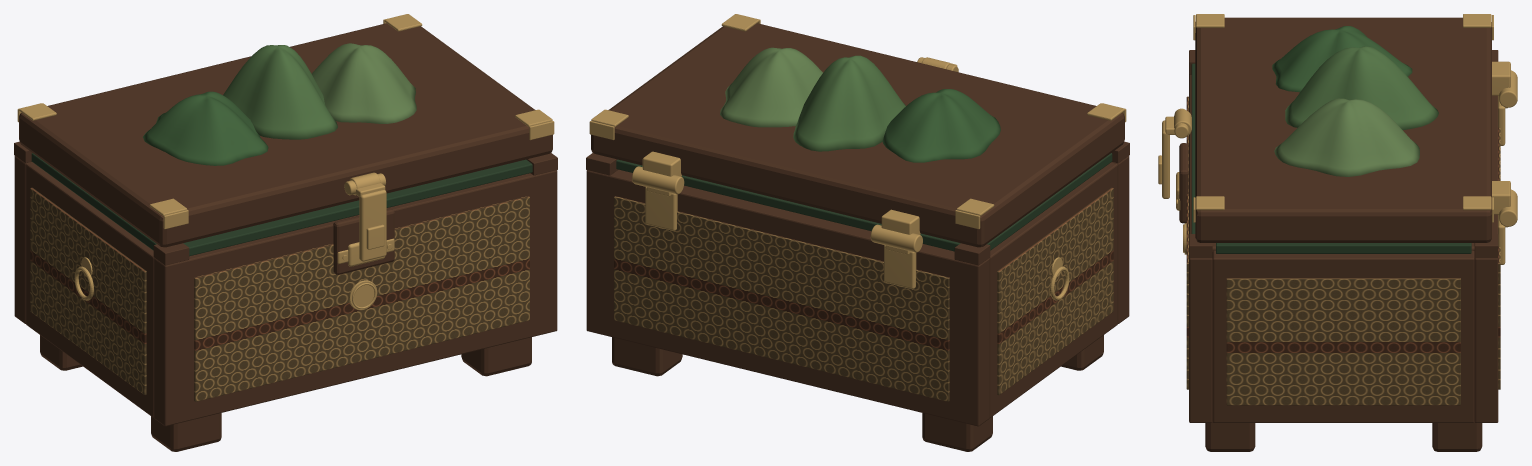
File: papua-new-guinea.glb
3 views of the same model, side by side, from view 1: azimuth 30°, elevation 25°; view 2: azimuth 150°, elevation 25°; view 3: azimuth 270°, elevation 25° (orthographic). The views are drawn at different scales.
Parts seen in each view (by area): view 1: Lid / polished slab, Fibre panel / long, Timber / long backing, Fibre panel / side, Timber / side backing, Highland ridge / 1, Highland ridge / 2, Highland ridge / 0, Forest seam / long, Timber / long backing.001, Timber / foot, Timber / foot.002 (+6 smaller); view 2: Lid / polished slab, Fibre panel / long.001, Timber / long backing.001, Fibre panel / side, Highland ridge / 1, Timber / side backing, Highland ridge / 0, Highland ridge / 2, Forest seam / long.001, Timber / long backing, Timber / foot.001, Timber / foot.003 (+10 smaller); view 3: Lid / polished slab, Fibre panel / side.001, Timber / side backing.001, Highland ridge / 2, Highland ridge / 1, Timber / long backing.001, Timber / long backing, Highland ridge / 0, Forest seam / side.001, Timber / foot.002, Timber / foot.003, Forest seam / long (+14 smaller).
Part boxes in pixels (left/top/right/bottom): Lid / polished slab: left=19, top=23, right=552, bottom=247; Fibre panel / long: left=194, top=196, right=529, bottom=401; Timber / long backing: left=154, top=170, right=557, bottom=426; Fibre panel / side: left=30, top=187, right=146, bottom=394; Timber / side backing: left=26, top=162, right=154, bottom=417; Highland ridge / 1: left=223, top=45, right=337, bottom=139; Highland ridge / 2: left=312, top=43, right=416, bottom=123; Highland ridge / 0: left=143, top=91, right=268, bottom=165; Forest seam / long: left=183, top=159, right=532, bottom=256; Timber / long backing.001: left=14, top=156, right=32, bottom=323; Timber / foot: left=151, top=413, right=221, bottom=451; Timber / foot.002: left=461, top=337, right=531, bottom=376; Lid / polished slab: left=591, top=23, right=1124, bottom=247; Fibre panel / long.001: left=614, top=196, right=949, bottom=401; Timber / long backing.001: left=586, top=169, right=989, bottom=426; Fibre panel / side: left=997, top=187, right=1113, bottom=394; Highland ridge / 1: left=793, top=55, right=905, bottom=151; Timber / side backing: left=989, top=162, right=1117, bottom=417; Highland ridge / 0: left=882, top=89, right=1000, bottom=162; Highland ridge / 2: left=720, top=47, right=822, bottom=127; Forest seam / long.001: left=616, top=159, right=960, bottom=251; Timber / long backing: left=1111, top=156, right=1129, bottom=323; Timber / foot.001: left=922, top=413, right=992, bottom=451; Timber / foot.003: left=612, top=337, right=682, bottom=376; Lid / polished slab: left=1195, top=17, right=1491, bottom=242; Fibre panel / side.001: left=1226, top=278, right=1460, bottom=405; Timber / side backing.001: left=1212, top=250, right=1474, bottom=422; Highland ridge / 2: left=1274, top=98, right=1419, bottom=176; Highland ridge / 1: left=1285, top=46, right=1438, bottom=130; Timber / long backing.001: left=1474, top=95, right=1498, bottom=422; Timber / long backing: left=1189, top=74, right=1212, bottom=422; Highland ridge / 0: left=1272, top=26, right=1412, bottom=92; Forest seam / side.001: left=1216, top=243, right=1471, bottom=253; Timber / foot.002: left=1205, top=422, right=1255, bottom=451; Timber / foot.003: left=1432, top=422, right=1482, bottom=451; Forest seam / long: left=1191, top=63, right=1195, bottom=233.
Bounding box in the file's own units: 3.81 × 2.8 × 2.88.
7 materials, 1 textured.
